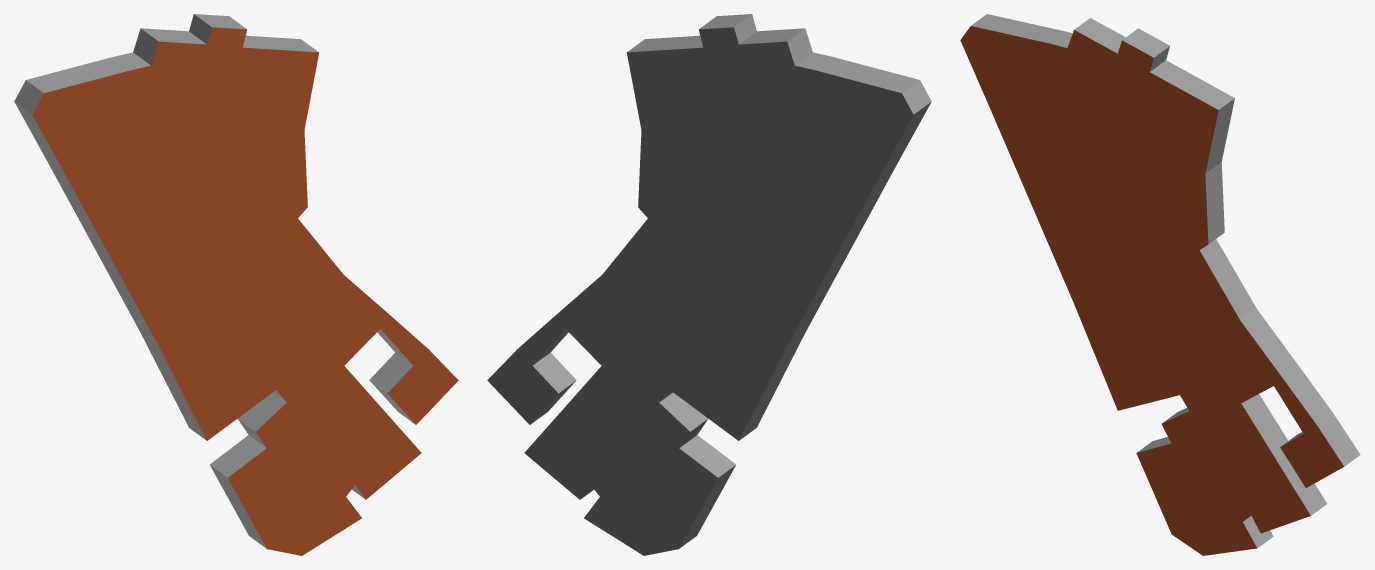
File: construction_6261_assumed_A_Casa_h6m.obj
3 renders of one model, left to right at view 1: azimuth 30°, elevation 25°; view 2: azimuth 150°, elevation 25°; view 3: azimuth 330°, elevation 25°, orthographic. The views are drawn at different scales.
Visible parts, largest first — view 1: construction_6261_assumed_A_Casa; view 2: construction_6261_assumed_A_Casa; view 3: construction_6261_assumed_A_Casa.
Part boxes in pixels (x1=…): construction_6261_assumed_A_Casa: x1=14, y1=14, x2=458, y2=555; construction_6261_assumed_A_Casa: x1=487, y1=14, x2=931, y2=555; construction_6261_assumed_A_Casa: x1=960, y1=14, x2=1360, y2=555.
Bounding box in the file's own units: 81.45 × 101 × 6.
